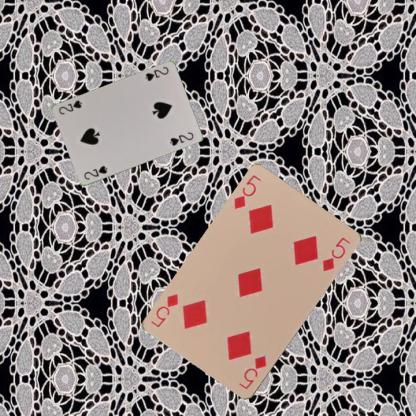2s: (142, 64, 170, 83), (81, 163, 109, 181)
5d: (236, 353, 268, 391), (231, 172, 262, 211)
